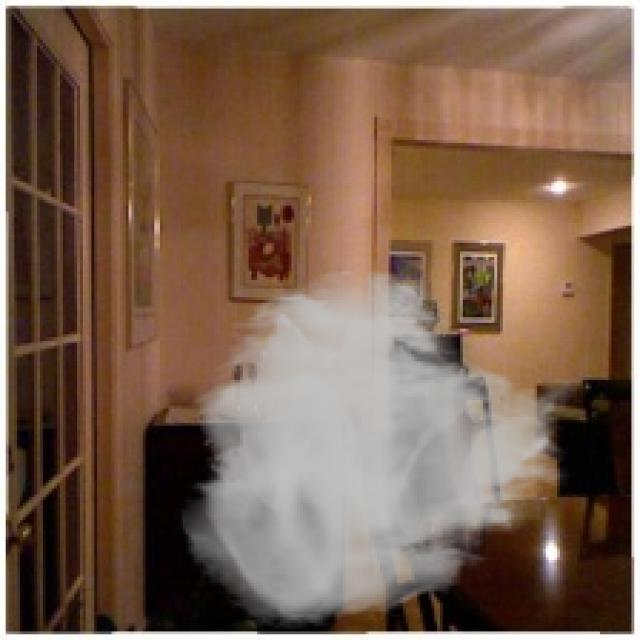smoke: (177, 266, 580, 631)
